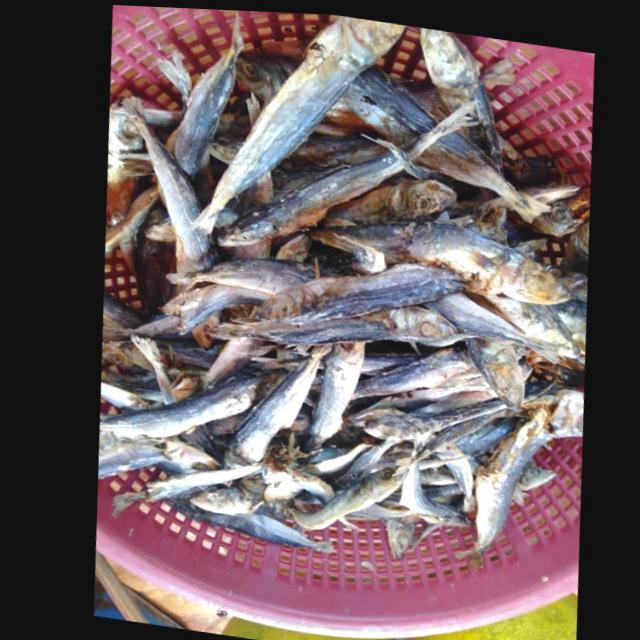left_over_food: (178, 12, 406, 257), (285, 343, 511, 549), (328, 217, 568, 299), (214, 149, 402, 243), (413, 123, 580, 217), (119, 93, 206, 265), (246, 258, 461, 322), (217, 342, 328, 465), (163, 10, 243, 175), (155, 253, 316, 333), (419, 23, 502, 172), (92, 363, 256, 435), (467, 402, 548, 546), (211, 300, 458, 342), (421, 286, 553, 358), (291, 337, 359, 451), (341, 62, 435, 141), (462, 333, 519, 406), (398, 101, 477, 152)
